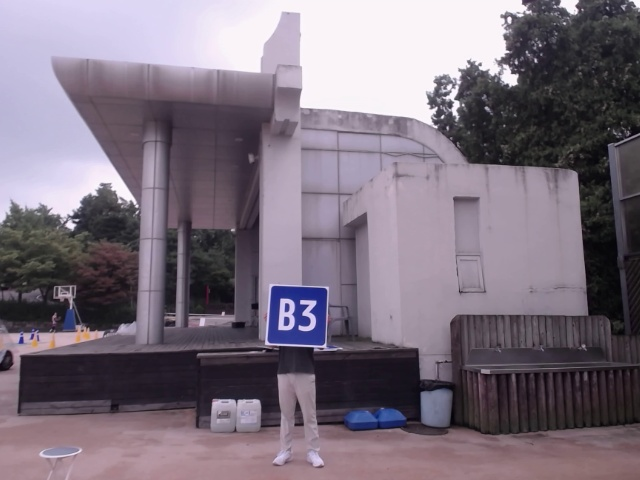delivery_b3: (267, 283, 328, 350)
